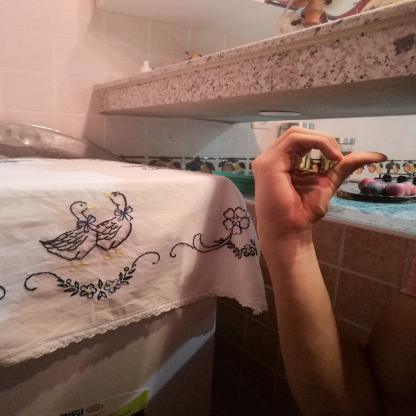WAW: (238, 115, 400, 246)
